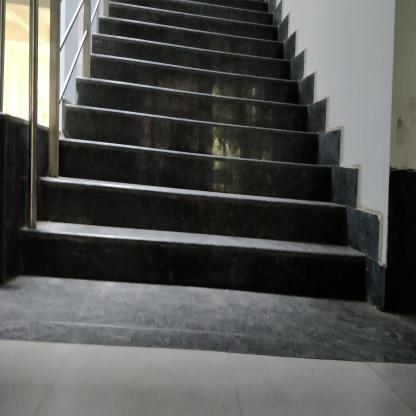stairs: (98, 53, 285, 306)
